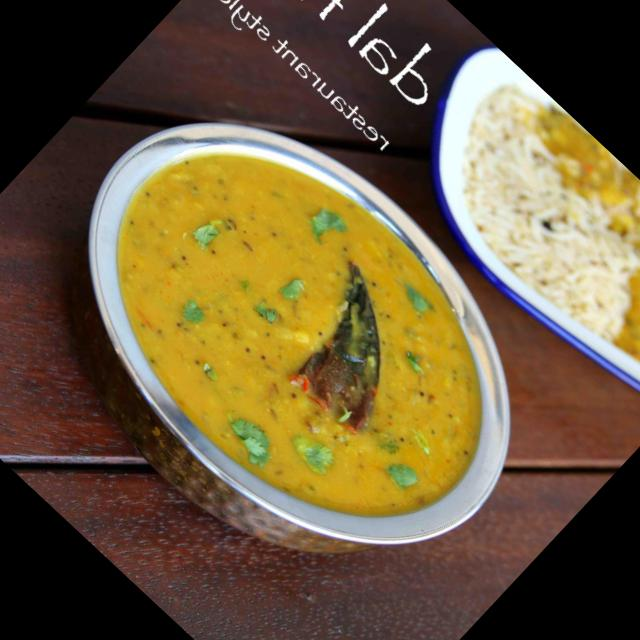dal: (40, 83, 553, 590)
rice: (401, 93, 640, 363)
